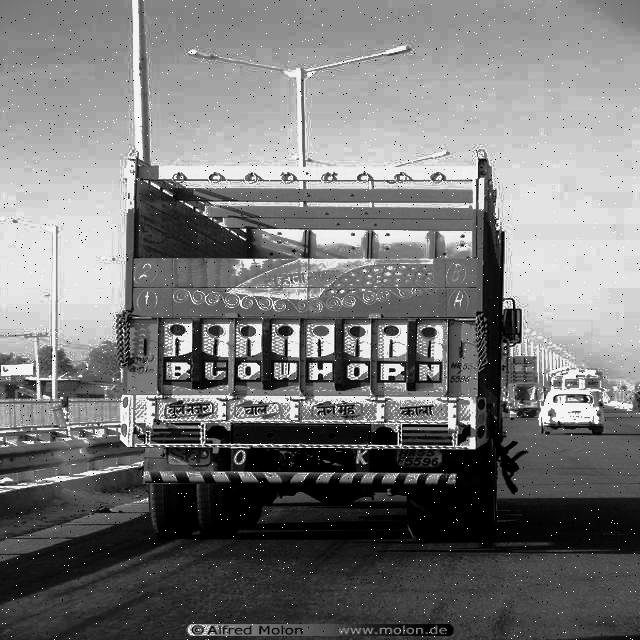HCV: (100, 124, 567, 561)
